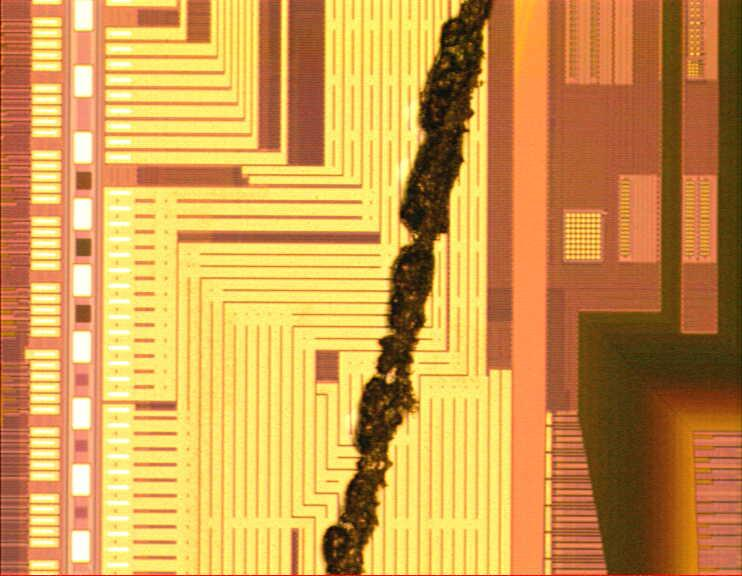SCRATCH: (316, 1, 498, 576)
